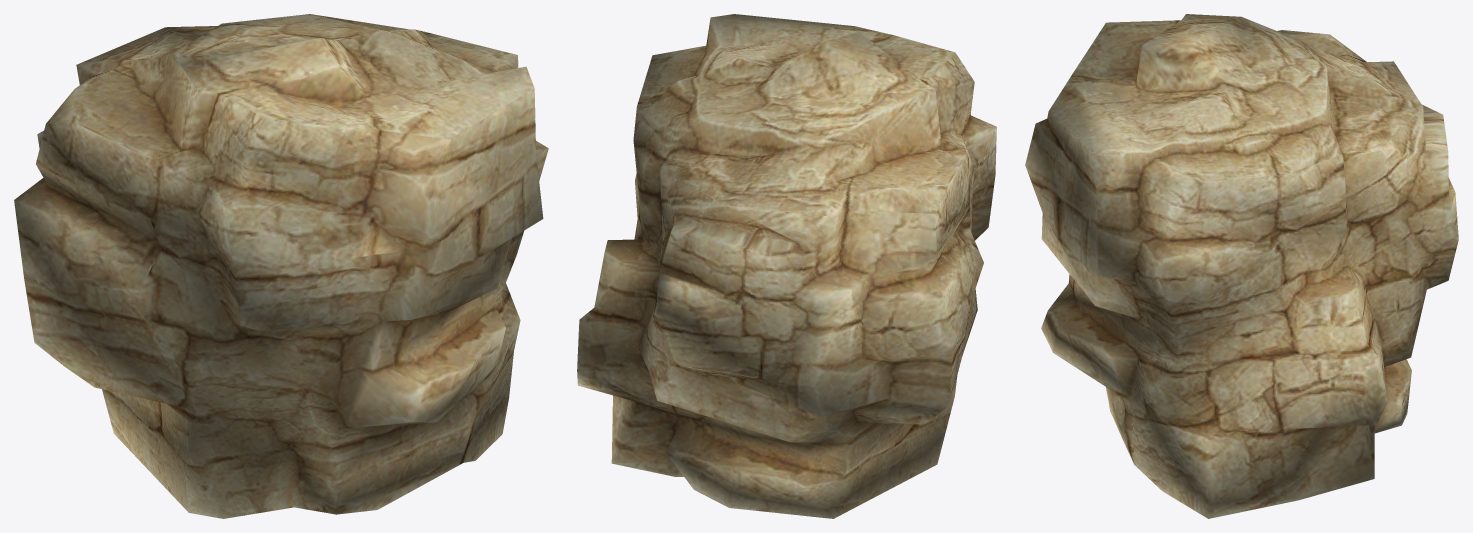
The model's file is S_Rock_Yellow057.FBX.
3 renders of one model, left to right at view 1: azimuth 30°, elevation 25°; view 2: azimuth 150°, elevation 25°; view 3: azimuth 270°, elevation 25°, orthographic. The views are drawn at different scales.
Visible parts, largest first — view 1: S_Rock_Yellow057; view 2: S_Rock_Yellow057; view 3: S_Rock_Yellow057.
Part boxes in pixels (x1,y1,x2,y2): S_Rock_Yellow057: (14, 14, 548, 518); S_Rock_Yellow057: (577, 14, 996, 518); S_Rock_Yellow057: (1025, 14, 1458, 518).
Bounding box in the file's own units: 729 × 732 × 731.
